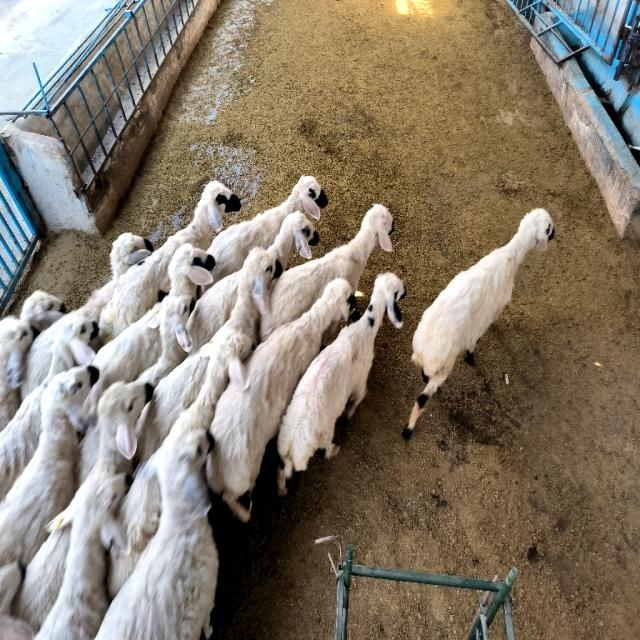sheep: (110, 325, 253, 591), (206, 278, 354, 521), (402, 208, 554, 438), (278, 273, 405, 478), (96, 430, 219, 638), (99, 182, 241, 343), (84, 243, 215, 416), (21, 233, 151, 398), (260, 203, 394, 341), (0, 367, 92, 567), (0, 315, 98, 499), (36, 473, 126, 640), (208, 177, 328, 282), (0, 290, 65, 429), (135, 347, 209, 463), (218, 247, 281, 346), (11, 525, 70, 630), (90, 382, 152, 477), (138, 295, 194, 388), (186, 270, 241, 352), (268, 212, 319, 276), (248, 250, 272, 299)
